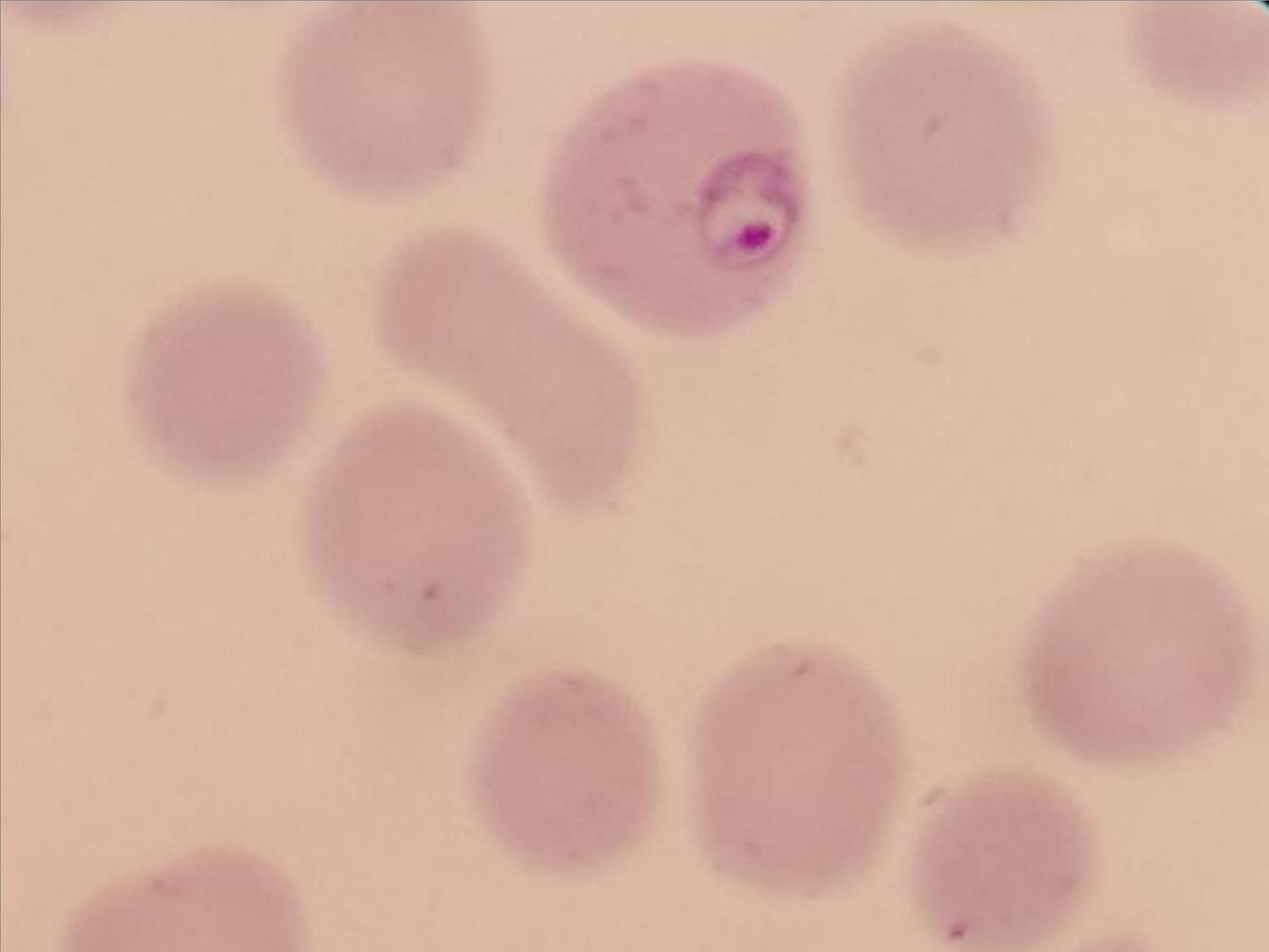Infected: (544, 65, 808, 333)
Uninfected: (372, 225, 638, 516), (299, 402, 525, 653), (691, 644, 904, 893), (1019, 545, 1245, 758), (833, 25, 1045, 248), (278, 0, 486, 192), (473, 666, 656, 873), (131, 283, 318, 477), (913, 768, 1099, 946)
